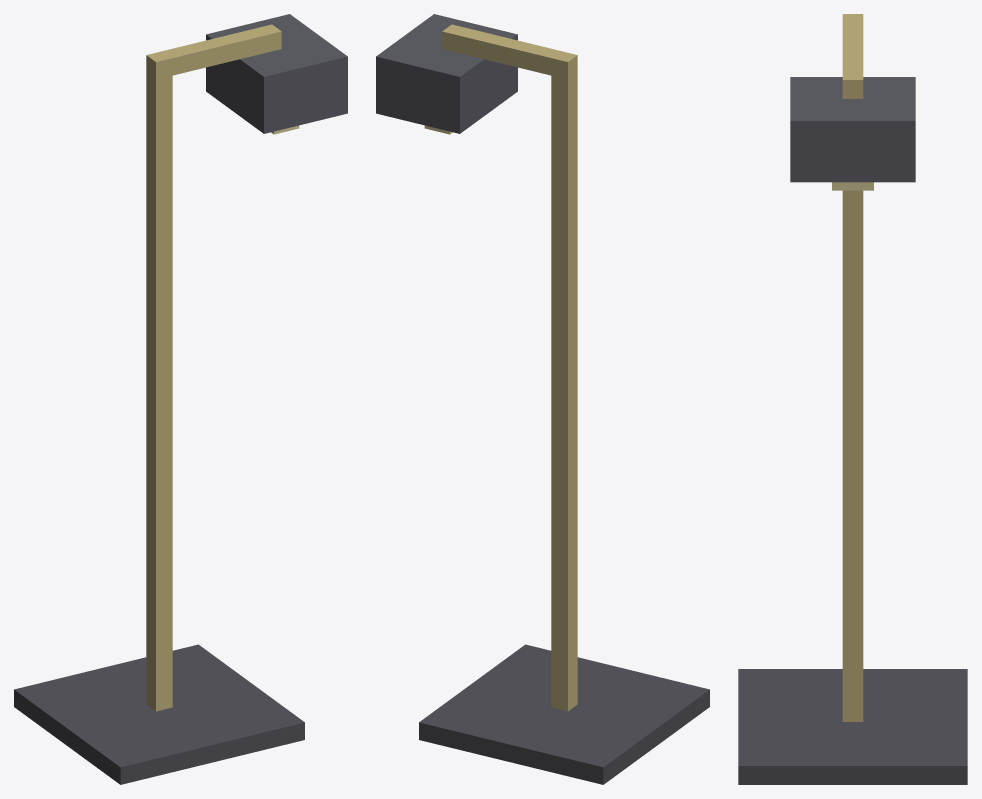
Rendered from lamp_barn.glb.
3 views of the same model, side by side, from view 1: azimuth 30°, elevation 25°; view 2: azimuth 150°, elevation 25°; view 3: azimuth 270°, elevation 25° (orthographic). The views are drawn at different scales.
Size of the model in its own units: 0.6 by 1.52 by 0.44.
